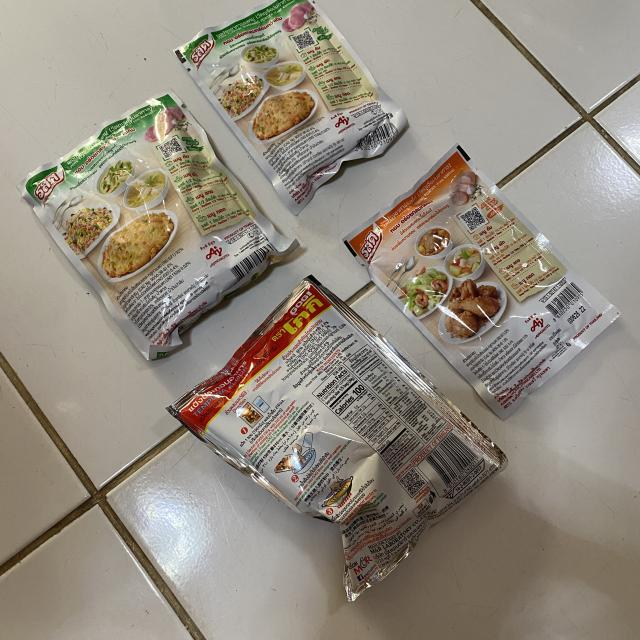plastik: (169, 279, 506, 600), (344, 145, 619, 419), (19, 91, 299, 360), (175, 0, 408, 214)
